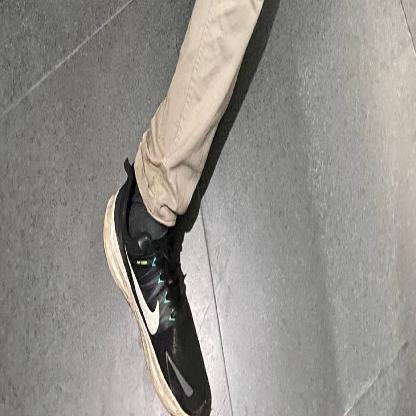leg: (100, 0, 266, 416)
